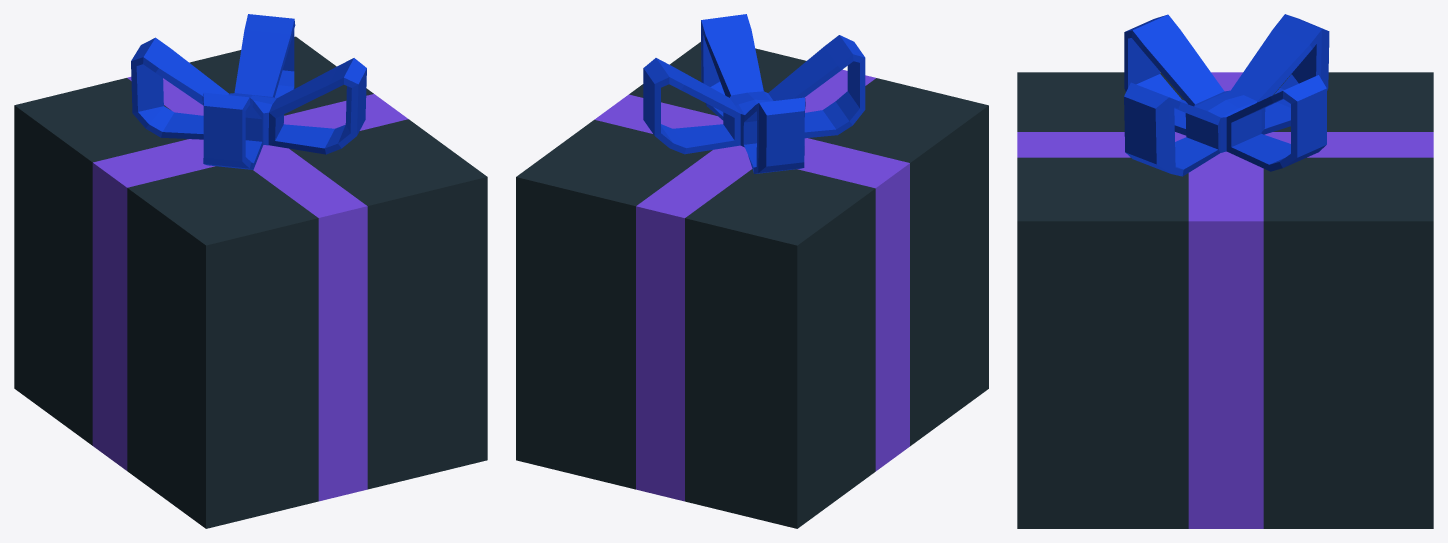
File: Gift_Lorge.001.fbx
The picture shows the model from 3 angles, left to right: view 1: azimuth 30°, elevation 25°; view 2: azimuth 150°, elevation 25°; view 3: azimuth 270°, elevation 25°; orthographic projection. The views are drawn at different scales.
Visible parts, largest first — view 1: Gift_Lorge.001; view 2: Gift_Lorge.001; view 3: Gift_Lorge.001.
Part boxes in pixels (x1,y1,x2,y2): Gift_Lorge.001: (14,14,487,528); Gift_Lorge.001: (516,14,988,528); Gift_Lorge.001: (1017,14,1433,528).
Bounding box in the file's own units: 148 × 185 × 174.
